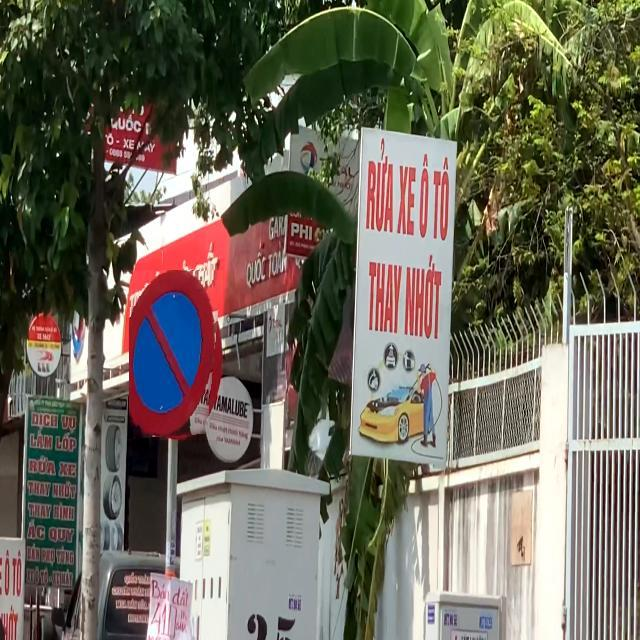P-131a: (129, 270, 223, 440)
